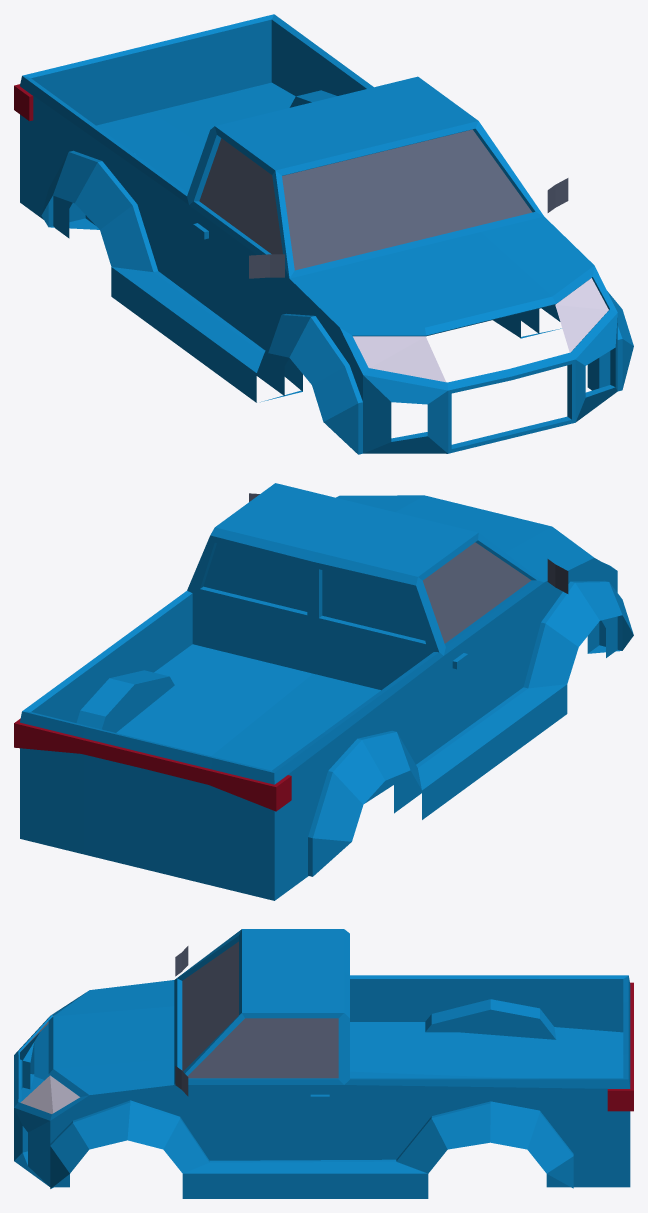
Rendered from Monster_Truck.glb.
3 views of the same model, one above another, from view 1: azimuth 30°, elevation 25°; view 2: azimuth 150°, elevation 25°; view 3: azimuth 270°, elevation 25° (orthographic). The views are drawn at different scales.
Parts seen in each view (by area): view 1: Monster Truck; view 2: Monster Truck; view 3: Monster Truck.
Part boxes in pixels (x1,y1,x2,y2): Monster Truck: (14, 14, 633, 454); Monster Truck: (14, 483, 633, 900); Monster Truck: (14, 929, 633, 1198).
Size of the model in its own units: 276 by 160 by 549.
